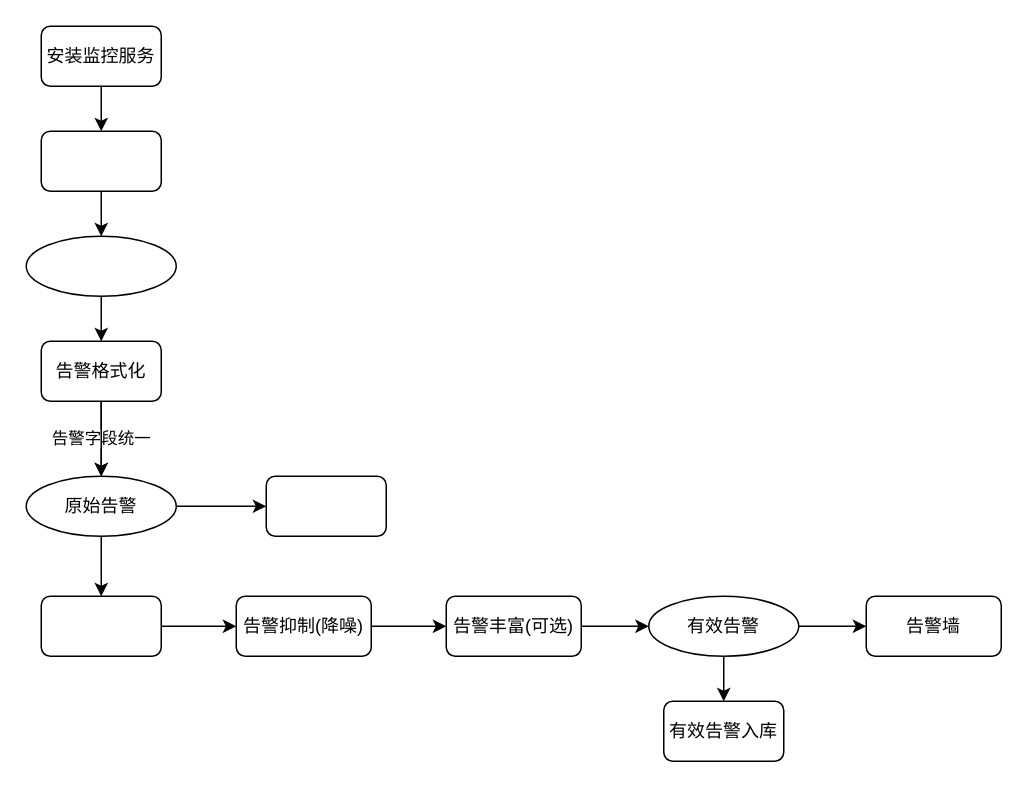
Some shapes in this 1028 by 788 pixel diagram are drawn without their labels. The box of each missing label's shape, as (x1, y1, x2, y2) in pixels:
原始告警(原生): (25, 235, 176, 296)
原始告警入库: (265, 475, 386, 536)
告警对象识别: (40, 595, 161, 656)
接入告警源: (40, 130, 161, 191)
